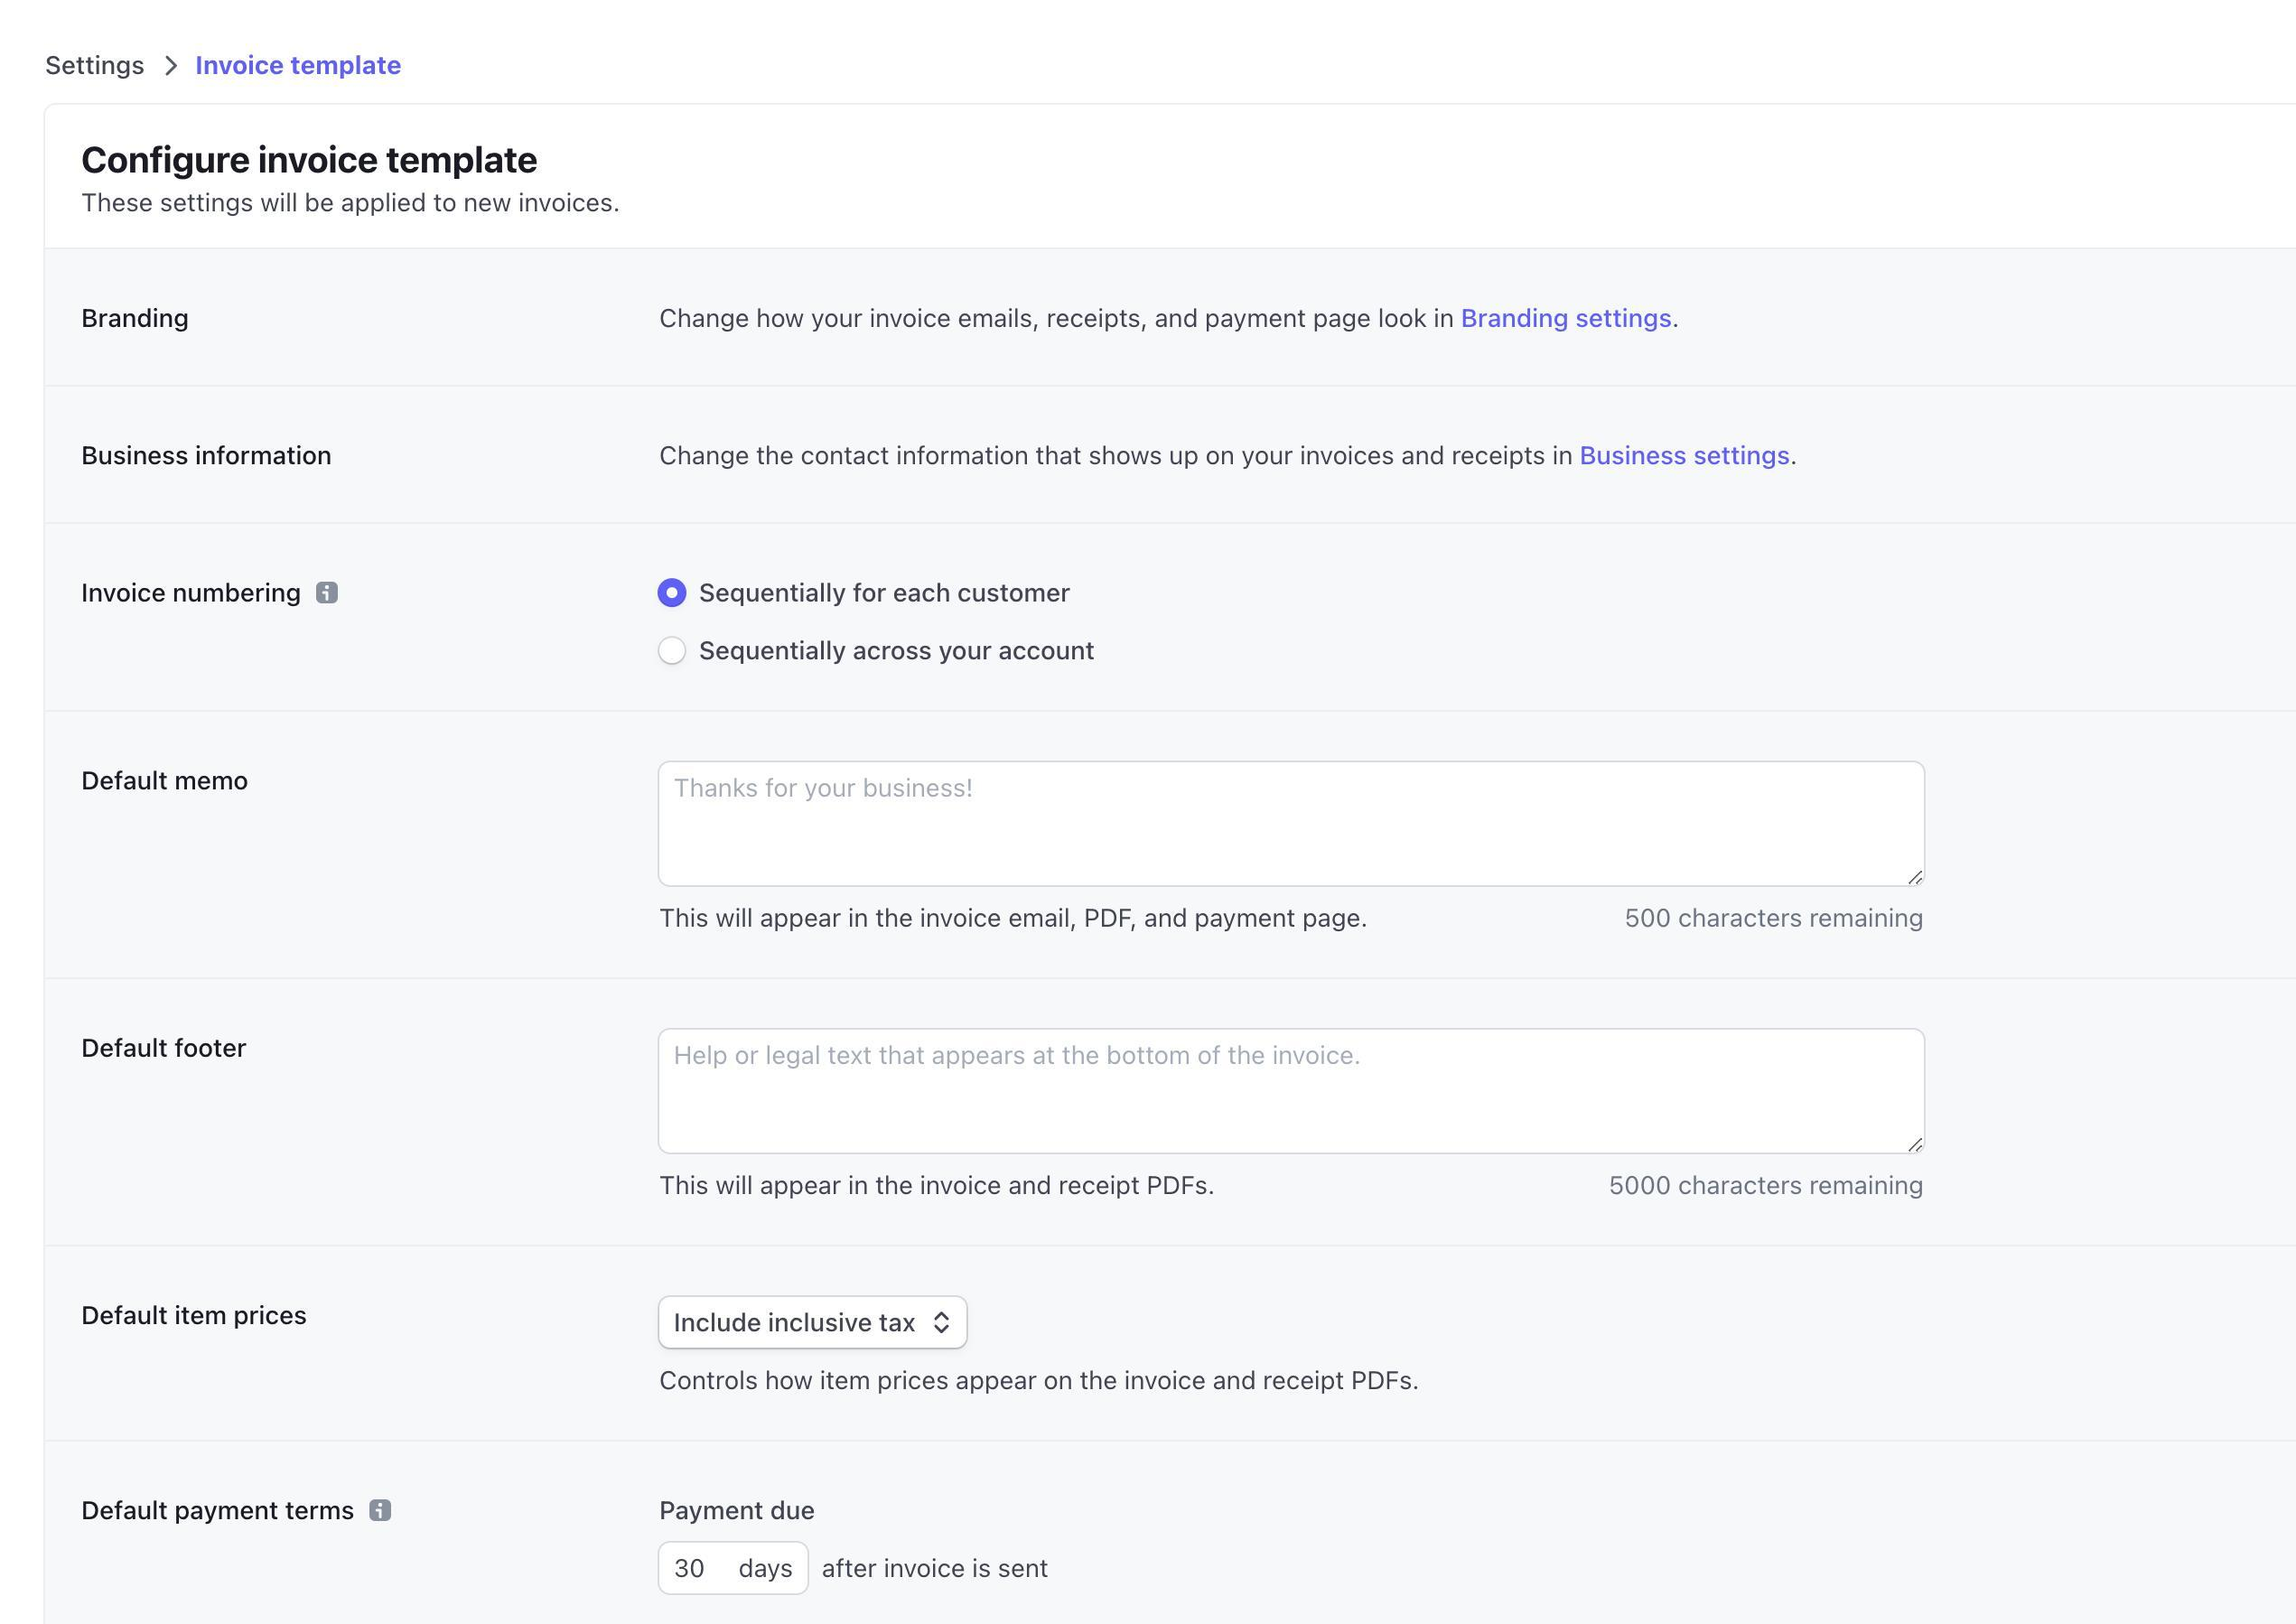dropdown: (657, 1292, 970, 1352)
icon: (365, 1490, 399, 1529), (311, 576, 344, 613)
input: (661, 1540, 812, 1596)
label: (76, 436, 350, 482), (697, 578, 1075, 608), (84, 1490, 358, 1531), (699, 642, 1103, 668), (76, 1294, 318, 1336), (83, 576, 307, 615), (67, 1032, 256, 1074), (822, 1554, 1058, 1587), (79, 763, 253, 803), (69, 301, 195, 343), (659, 1499, 827, 1529)
radio: (653, 633, 692, 670), (655, 573, 690, 613)
